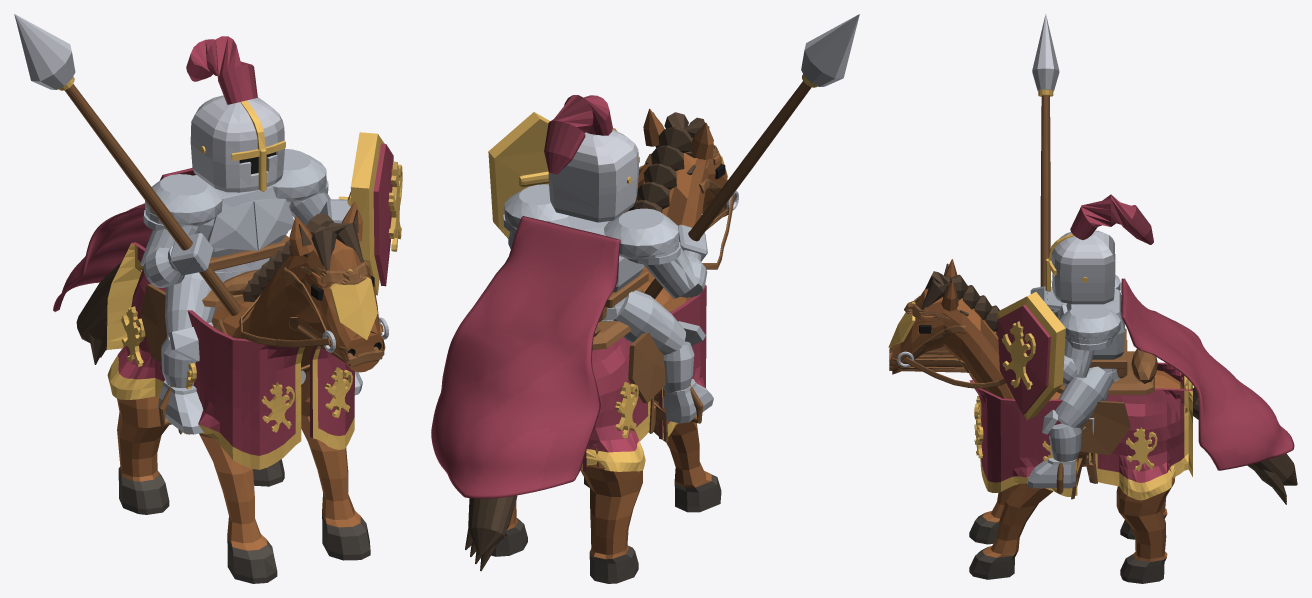
File: roseguard.glb
3 views of the same model, side by side, from view 1: azimuth 30°, elevation 25°; view 2: azimuth 150°, elevation 25°; view 3: azimuth 270°, elevation 25° (orthographic). The views are drawn at different scales.
Visible parts, largest first — view 1: Warhorse — single connected sculpted equine head neck trunk , Warhorse — lion thick continuously folded side cloth 1 front, Mounted champion helm — integrated stepped roof cheek nape a, Warhorse — lion thick continuously folded side cloth 1 rear , Mounted champion — continuously folded source cloak, Lionheart — inclined continuous wood lance, Warhorse — lion thick continuously folded side cloth -1 fron, Lionheart — broad swept red plume, Lionheart — broad faceted spear point, Lionheart kite shield — thick convex kite envelope, Mounted champion — source convex angular shoulder crown 1, Lionheart kite shield — inset convex field (+28 smaller); view 2: Mounted champion — continuously folded source cloak, Warhorse — single connected sculpted equine head neck trunk , Mounted champion helm — integrated stepped roof cheek nape a, Warhorse — lion thick continuously folded side cloth 1 rear , Lionheart kite shield — thick convex kite envelope, Lionheart — broad swept red plume, Mounted champion — source convex angular shoulder crown 1, Lionheart — inclined continuous wood lance, Mounted champion — shaped seated thigh 1, Lionheart — broad faceted spear point, Warhorse — long solid angular tail, Warhorse — shaped source leather saddle skirt 1 (+15 smaller); view 3: Warhorse — single connected sculpted equine head neck trunk , Mounted champion — continuously folded source cloak, Warhorse — lion thick continuously folded side cloth -1 rear, Warhorse — lion thick continuously folded side cloth -1 fron, Mounted champion helm — integrated stepped roof cheek nape a, Lionheart kite shield — inset convex field, Lionheart kite shield — thick convex kite envelope, Lionheart — broad swept red plume, Mounted champion — shaped seated thigh -1, Warhorse — shaped source leather saddle skirt -1, Lionheart — inclined continuous wood lance, Mounted champion — source convex angular shoulder crown -1 (+13 smaller).
Boxes of the visible parts, x1,y1,x2,y2 form: Warhorse — single connected sculpted equine head neck trunk : (117,239,383,583); Warhorse — lion thick continuously folded side cloth 1 front: (186,310,304,469); Mounted champion helm — integrated stepped roof cheek nape a: (190,95,284,192); Warhorse — lion thick continuously folded side cloth 1 rear : (106,242,165,399); Mounted champion — continuously folded source cloak: (53,168,195,311); Lionheart — inclined continuous wood lance: (64,84,241,315); Warhorse — lion thick continuously folded side cloth -1 fron: (310,337,354,449); Lionheart — broad swept red plume: (186,36,257,104); Lionheart — broad faceted spear point: (14,14,75,89); Lionheart kite shield — thick convex kite envelope: (350,132,384,295); Mounted champion — source convex angular shoulder crown 1: (145,174,222,226); Lionheart kite shield — inset convex field: (373,143,393,286); Mounted champion — continuously folded source cloak: (431,216,620,498); Warhorse — single connected sculpted equine head neck trunk : (491,141,731,583); Mounted champion helm — integrated stepped roof cheek nape a: (548,129,638,222); Warhorse — lion thick continuously folded side cloth 1 rear : (580,336,650,471); Lionheart kite shield — thick convex kite envelope: (488,112,550,238); Lionheart — broad swept red plume: (544,95,612,174); Mounted champion — source convex angular shoulder crown 1: (604,208,678,259); Lionheart — inclined continuous wood lance: (644,81,811,299); Mounted champion — shaped seated thigh 1: (613,290,685,355); Lionheart — broad faceted spear point: (801,14,859,86); Warhorse — long solid angular tail: (468,495,517,555); Warhorse — shaped source leather saddle skirt 1: (628,332,665,403); Warhorse — single connected sculpted equine head neck trunk : (892,288,1184,583); Mounted champion — continuously folded source cloak: (1121,278,1294,470); Warhorse — lion thick continuously folded side cloth -1 rear: (1089,388,1192,500); Warhorse — lion thick continuously folded side cloth -1 fron: (969,380,1077,496); Mounted champion helm — integrated stepped roof cheek nape a: (1051,230,1115,304); Lionheart kite shield — inset convex field: (997,304,1050,414); Lionheart kite shield — thick convex kite envelope: (997,292,1065,420); Lionheart — broad swept red plume: (1070,194,1153,244); Mounted champion — shaped seated thigh -1: (1055,366,1114,427); Warhorse — shaped source leather saddle skirt -1: (1080,401,1130,455); Lionheart — inclined continuous wood lance: (1040,95,1050,308); Mounted champion — source convex angular shoulder crown -1: (1060,304,1120,340).
Size of the model in its own units: 1.66 by 2.42 by 2.01.
